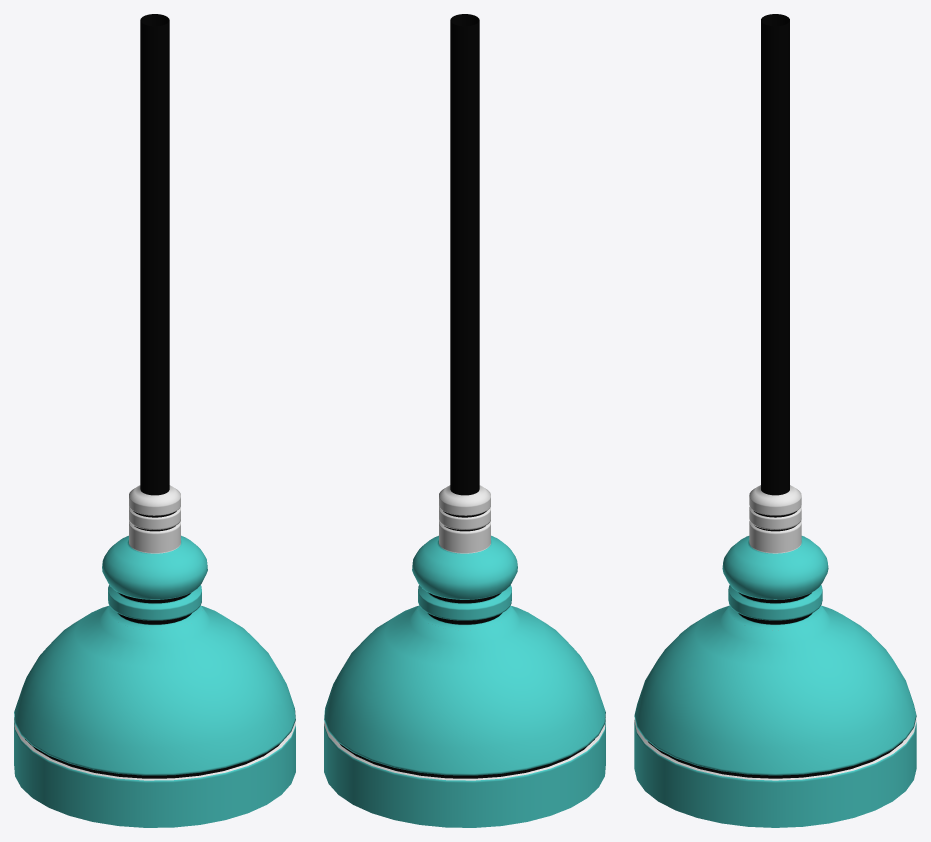
The model's file is lamp-holder.fbx.
3 renders of one model, left to right at view 1: azimuth 30°, elevation 25°; view 2: azimuth 150°, elevation 25°; view 3: azimuth 270°, elevation 25°, orthographic.
Parts seen in each view (by area): view 1: lamp holder; view 2: lamp holder; view 3: lamp holder.
Boxes of the visible parts, x1,y1,x2,y2 form: lamp holder: [14, 14, 295, 827]; lamp holder: [324, 14, 605, 827]; lamp holder: [634, 14, 916, 827].
Bounding box in the file's own units: 196 × 602 × 196.
